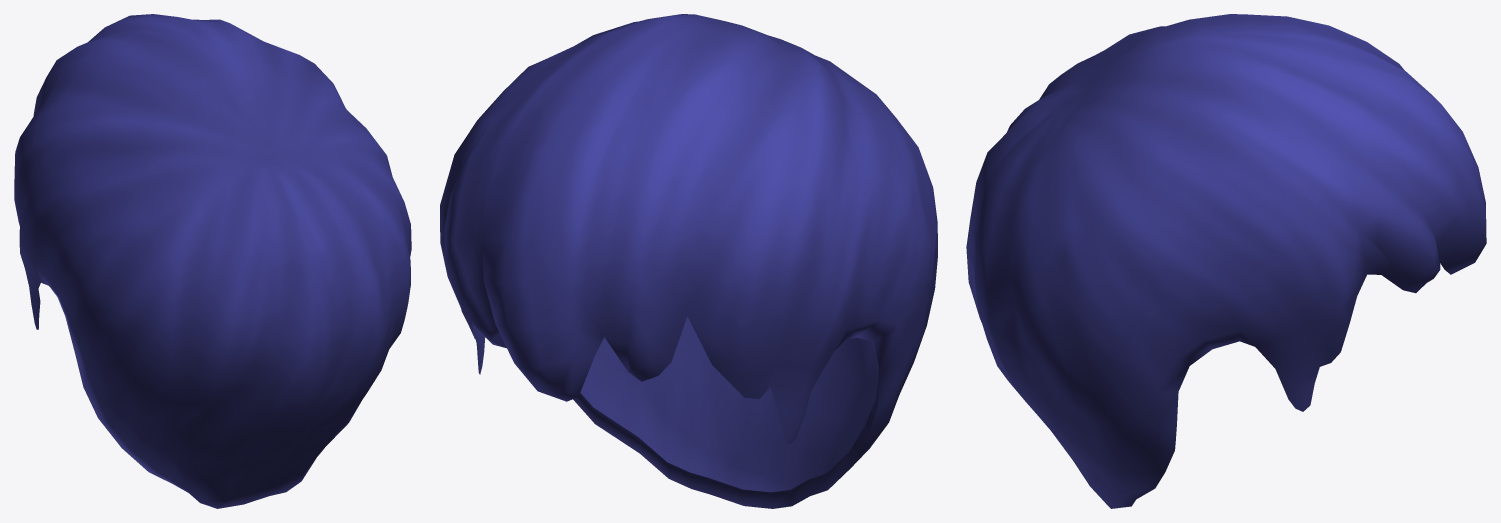
File: Hair_Male_001_textured_blue.glb
The picture shows the model from 3 angles, left to right: view 1: azimuth 30°, elevation 25°; view 2: azimuth 150°, elevation 25°; view 3: azimuth 270°, elevation 25°; orthographic projection. The views are drawn at different scales.
Visible parts, largest first — view 1: Hair_Male_001; view 2: Hair_Male_001; view 3: Hair_Male_001.
Boxes of the visible parts, bbox=[...] form: Hair_Male_001: bbox=[14, 14, 411, 508]; Hair_Male_001: bbox=[440, 14, 937, 508]; Hair_Male_001: bbox=[966, 14, 1486, 508].
Size of the model in its own units: 0.189 by 0.2389 by 0.2448.
1 material, 1 textured.
